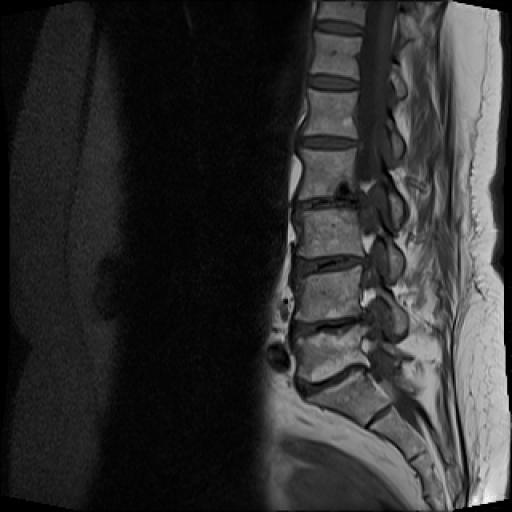L1: (302, 88, 358, 138)
L2: (299, 148, 356, 198)
L3: (297, 210, 364, 258)
L4: (294, 265, 360, 322)
L5: (294, 322, 375, 382)
S1: (305, 370, 392, 426)
